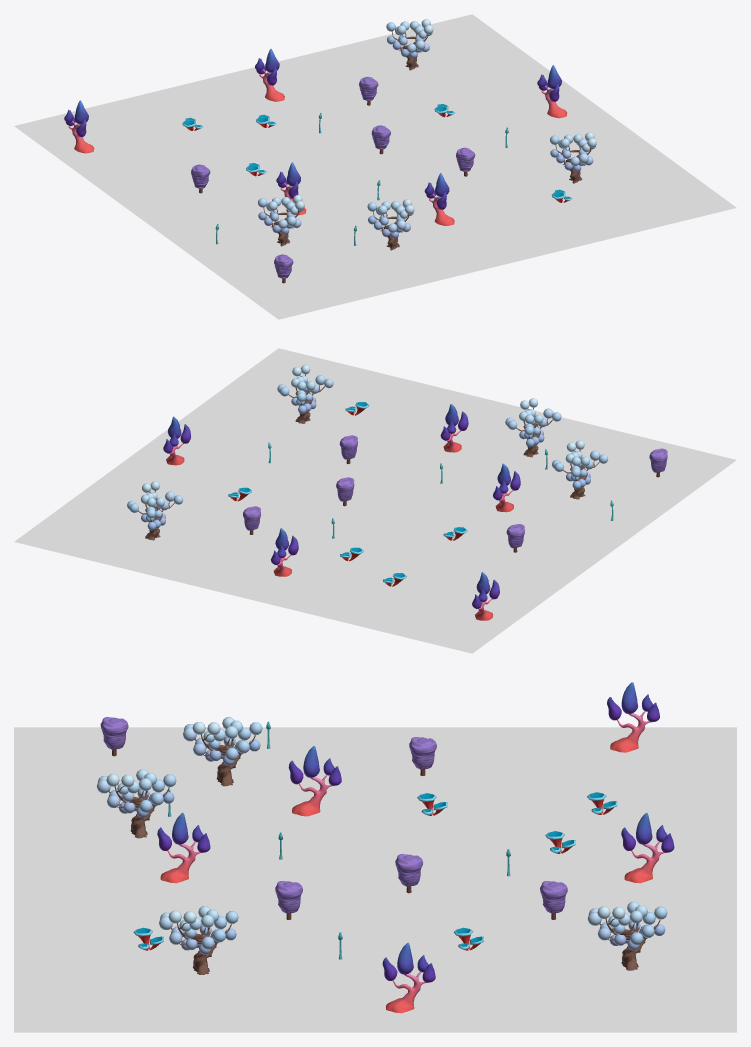
The model's file is Terrain.glb.
3 views of the same model, one above another, from view 1: azimuth 30°, elevation 25°; view 2: azimuth 150°, elevation 25°; view 3: azimuth 270°, elevation 25° (orthographic). The views are drawn at different scales.
Visible parts, largest first — view 1: Plane, big_fabulous_tree_001.002, big_fabulous_tree_001.005, big_fabulous_tree_001.001, big_fabulous_tree_001.004, fabulous_mushroom_002.003, fabulous_mushroom_002.005, fabulous_mushroom_002.004, fabulous_mushroom_002.001, fabulous_mushroom_002.002; view 2: Plane, big_fabulous_tree_001.005, big_fabulous_tree_001.001, big_fabulous_tree_001.004, big_fabulous_tree_001.002, fabulous_mushroom_002.004, fabulous_mushroom_002.003, fabulous_mushroom_002.005, fabulous_mushroom_002.002, fabulous_mushroom_002.001; view 3: Plane, big_fabulous_tree_001.004, big_fabulous_tree_001.001, big_fabulous_tree_001.002, big_fabulous_tree_001.005, fabulous_mushroom_002.003, fabulous_mushroom_002.002, fabulous_mushroom_002.004, fabulous_mushroom_002.001, fabulous_mushroom_002.005, fabulous_tree_001.001, fabulous_tree_001.002 (+3 smaller).
Part boxes in pixels (x1=…): Plane: x1=14, y1=14, x2=736, y2=319; big_fabulous_tree_001.002: x1=258, y1=195, x2=304, y2=246; big_fabulous_tree_001.005: x1=550, y1=132, x2=596, y2=183; big_fabulous_tree_001.001: x1=386, y1=19, x2=433, y2=70; big_fabulous_tree_001.004: x1=367, y1=199, x2=414, y2=250; fabulous_mushroom_002.003: x1=64, y1=100, x2=94, y2=153; fabulous_mushroom_002.005: x1=255, y1=49, x2=284, y2=101; fabulous_mushroom_002.004: x1=424, y1=173, x2=454, y2=225; fabulous_mushroom_002.001: x1=537, y1=65, x2=567, y2=118; fabulous_mushroom_002.002: x1=276, y1=162, x2=306, y2=215; Plane: x1=14, y1=348, x2=736, y2=653; big_fabulous_tree_001.005: x1=277, y1=364, x2=333, y2=423; big_fabulous_tree_001.001: x1=127, y1=481, x2=183, y2=540; big_fabulous_tree_001.004: x1=505, y1=398, x2=561, y2=457; big_fabulous_tree_001.002: x1=552, y1=440, x2=608, y2=499; fabulous_mushroom_002.004: x1=440, y1=404, x2=468, y2=452; fabulous_mushroom_002.003: x1=472, y1=572, x2=499, y2=620; fabulous_mushroom_002.005: x1=271, y1=528, x2=298, y2=576; fabulous_mushroom_002.002: x1=493, y1=463, x2=520, y2=512; fabulous_mushroom_002.001: x1=163, y1=416, x2=190, y2=465; Plane: x1=14, y1=727, x2=736, y2=1032; big_fabulous_tree_001.004: x1=96, y1=769, x2=176, y2=838; big_fabulous_tree_001.001: x1=587, y1=901, x2=667, y2=970; big_fabulous_tree_001.002: x1=183, y1=717, x2=262, y2=786; big_fabulous_tree_001.005: x1=159, y1=906, x2=238, y2=974; fabulous_mushroom_002.003: x1=607, y1=682, x2=659, y2=752; fabulous_mushroom_002.002: x1=288, y1=746, x2=341, y2=816; fabulous_mushroom_002.004: x1=157, y1=813, x2=210, y2=883; fabulous_mushroom_002.001: x1=382, y1=942, x2=435, y2=1013; fabulous_mushroom_002.005: x1=621, y1=813, x2=674, y2=883; fabulous_tree_001.001: x1=395, y1=854, x2=422, y2=893; fabulous_tree_001.002: x1=409, y1=737, x2=436, y2=775.
Size of what is drawn, in the model's own units: 50 by 5.05 by 50.
Materials: 25 (24 with a texture image).
